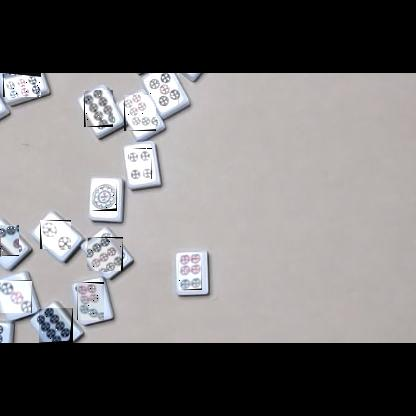1p: (91, 183, 117, 211)
2p: (40, 220, 71, 249)
3p: (0, 280, 32, 313)
4p: (129, 148, 152, 179)
5p: (149, 73, 179, 105)
6p: (179, 254, 202, 290)
7p: (124, 95, 156, 131), (77, 282, 104, 320), (0, 225, 19, 256)
8p: (39, 308, 73, 343), (84, 90, 113, 127)
9p: (87, 237, 123, 271), (3, 73, 41, 97)
